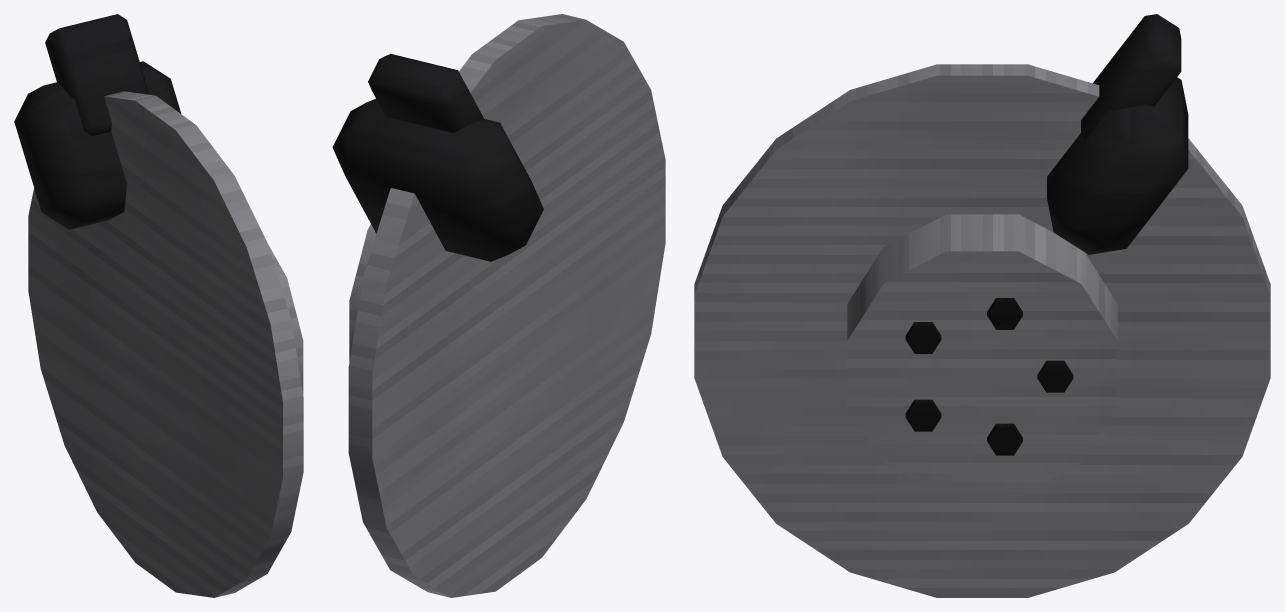
The model's file is discos_fabrica.glb.
3 views of the same model, side by side, from view 1: azimuth 30°, elevation 25°; view 2: azimuth 150°, elevation 25°; view 3: azimuth 270°, elevation 25° (orthographic). The views are drawn at different scales.
Visible parts, largest first — view 1: discos_fabrica; view 2: discos_fabrica; view 3: discos_fabrica.
Part boxes in pixels (x1,y1,x2,y2): discos_fabrica: (14, 14, 303, 597); discos_fabrica: (332, 14, 665, 597); discos_fabrica: (694, 14, 1270, 597).
Size of the model in its own units: 0.091 by 0.2764 by 0.2568.
Materials: 1 (1 with a texture image).
